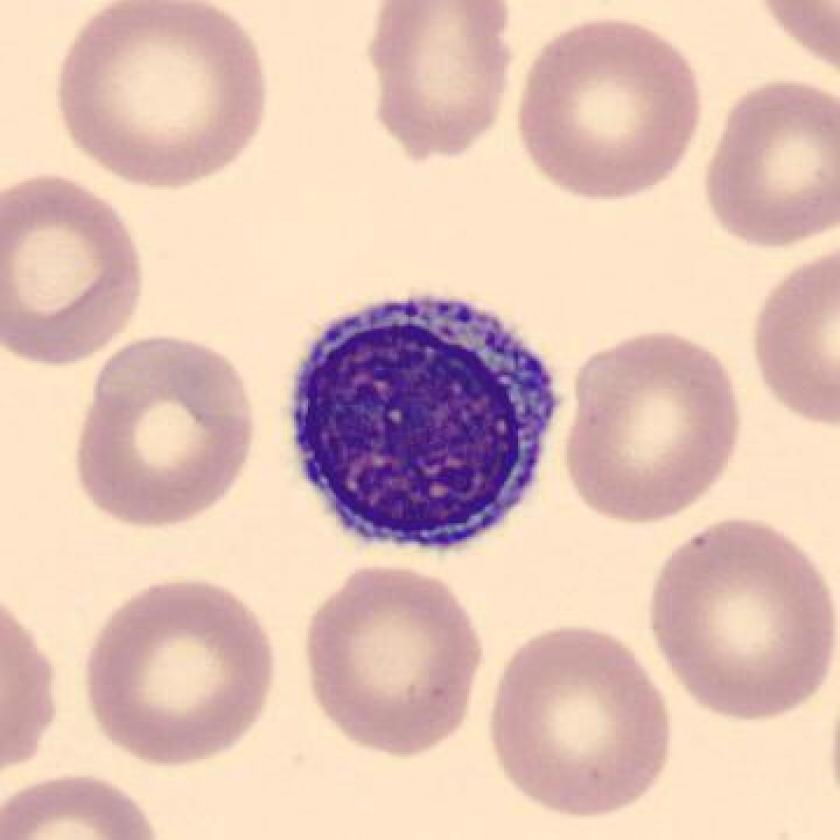lymphocyte: (279, 286, 575, 570)
